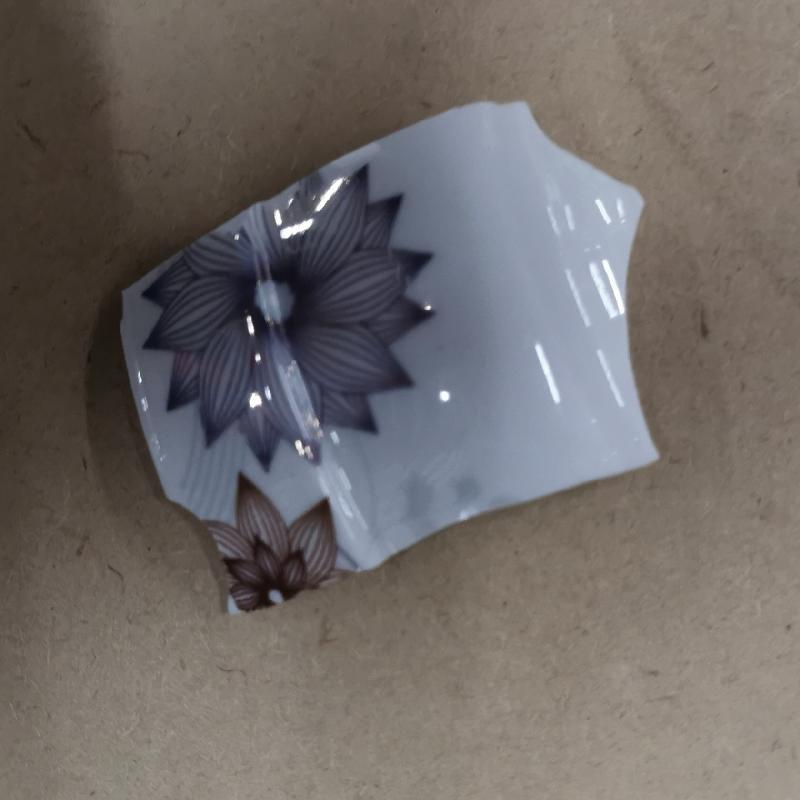ceram: (113, 91, 667, 616)
